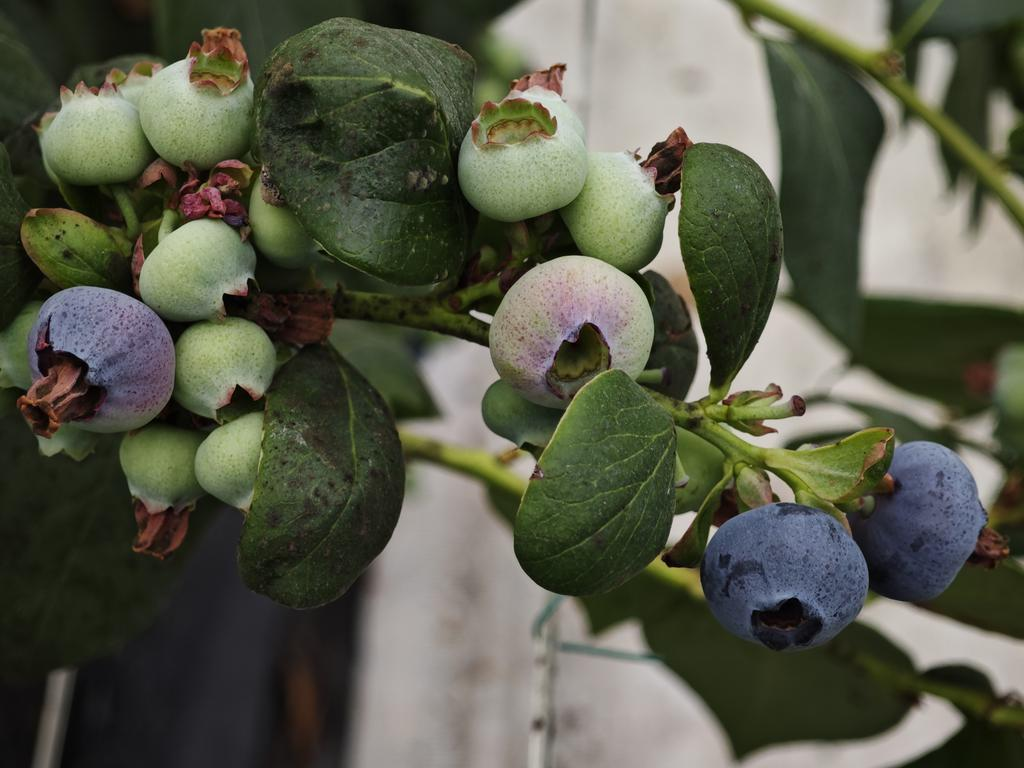RipeBlueBerry: (702, 502, 869, 642), (877, 442, 1001, 603)
Semi-RipeBlueBerry: (491, 259, 656, 409), (26, 284, 172, 432)
UnripeBlueBerry: (459, 101, 592, 219), (140, 47, 257, 166), (139, 210, 270, 314), (44, 82, 153, 183)
